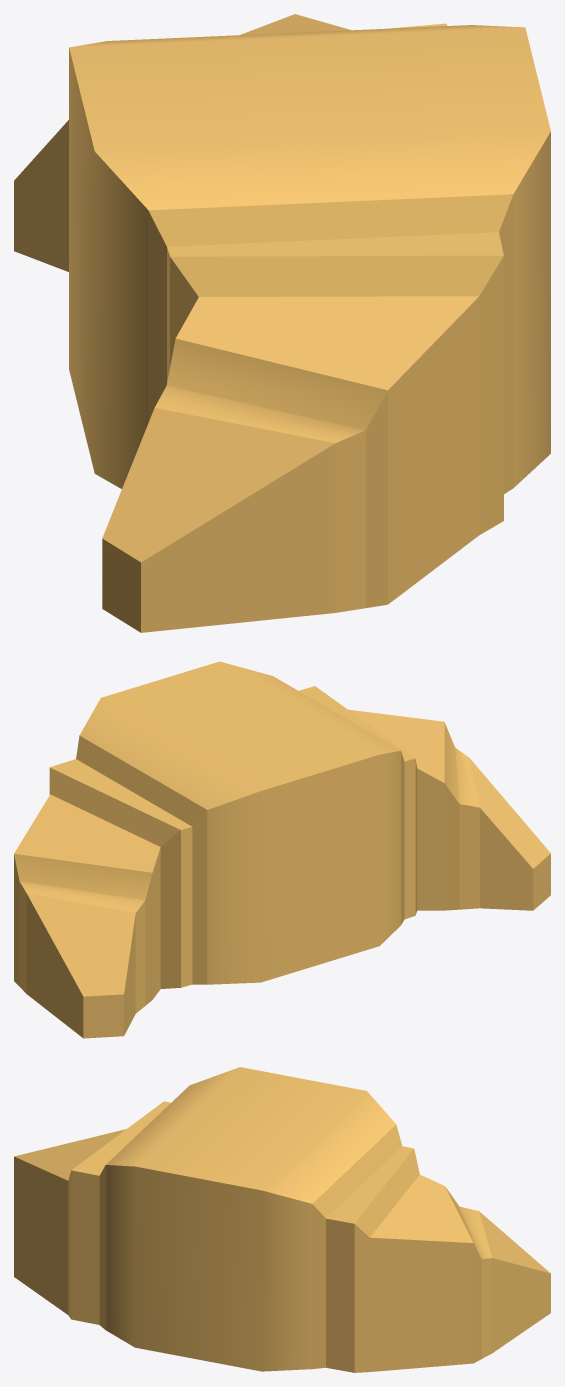
The model's file is Croissant.fbx.
The picture shows the model from 3 angles, top to bottom: view 1: azimuth 30°, elevation 25°; view 2: azimuth 150°, elevation 25°; view 3: azimuth 270°, elevation 25°; orthographic projection. The views are drawn at different scales.
Visible parts, largest first — view 1: pCube261; view 2: pCube261; view 3: pCube261.
Part boxes in pixels (box(x1,y1,x2,y2)): pCube261: box(14, 14, 550, 632); pCube261: box(14, 661, 550, 1038); pCube261: box(14, 1067, 550, 1372).
Bounding box in the file's own units: 16.55 × 9 × 23.64.
